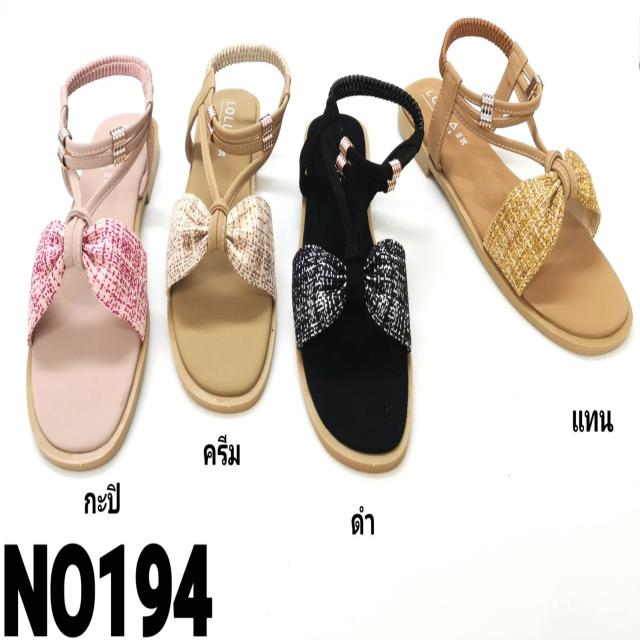black: (298, 114, 410, 474)
cream: (167, 87, 279, 417)
kapi: (28, 106, 155, 463)
tan: (407, 71, 624, 349)
